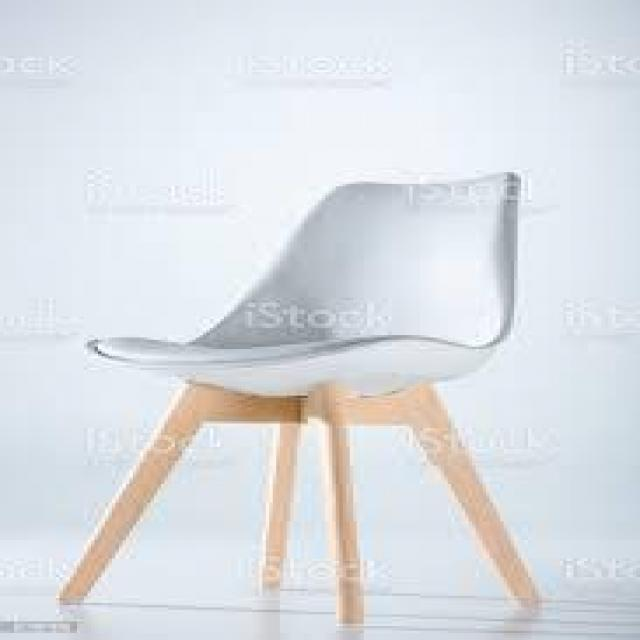chair: (72, 134, 554, 599)
